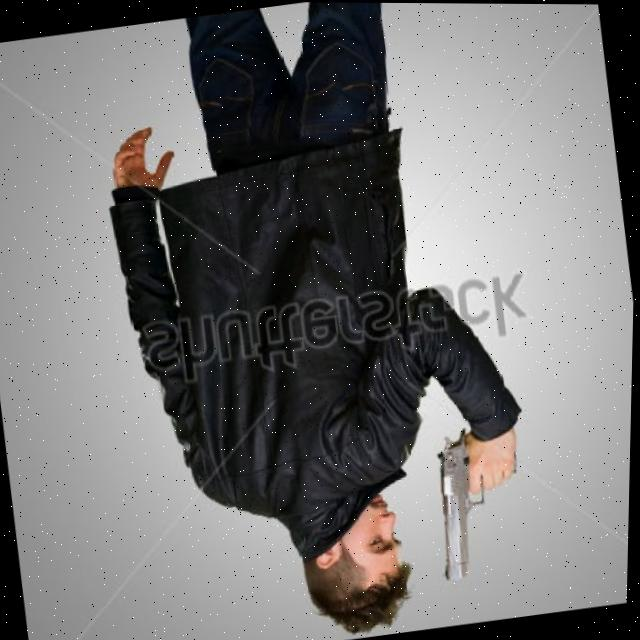pistol: (428, 429, 499, 581)
